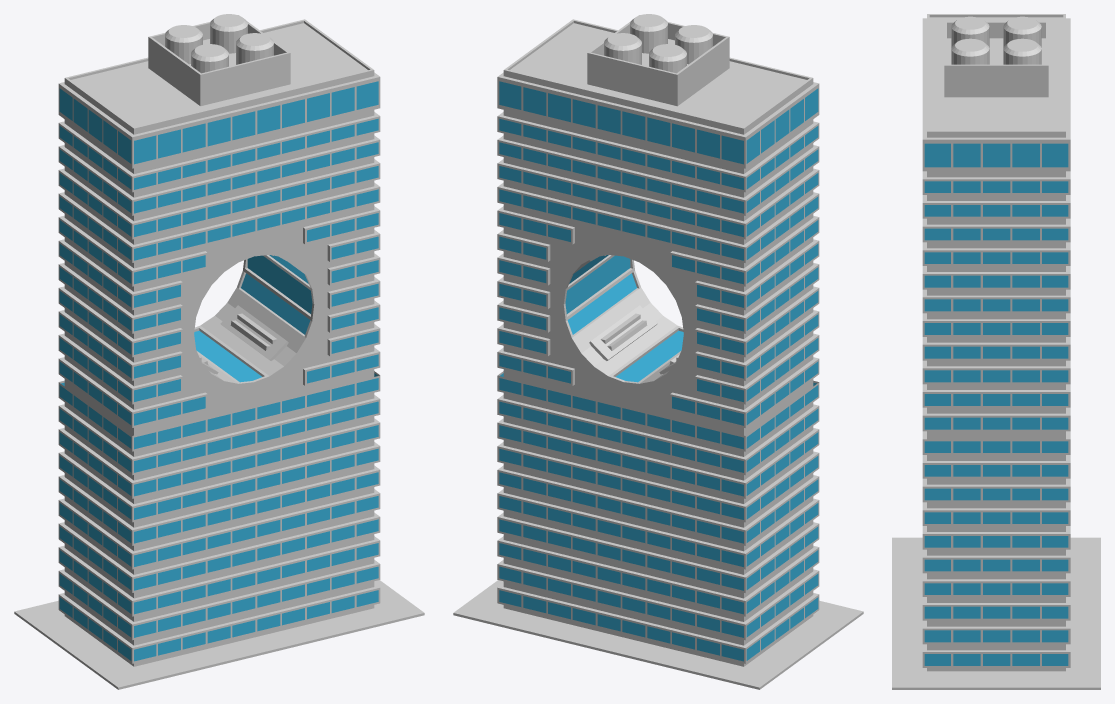
The model's file is Chroma Skyscraper K.fbx.
3 renders of one model, left to right at view 1: azimuth 30°, elevation 25°; view 2: azimuth 150°, elevation 25°; view 3: azimuth 270°, elevation 25°, orthographic.
Parts seen in each view (by area): view 1: Cube, Ground; view 2: Cube, Ground; view 3: Cube, Ground.
Boxes of the visible parts, x1,y1,x2,y2 form: Cube: [58, 14, 380, 666]; Ground: [14, 580, 424, 689]; Cube: [497, 14, 819, 666]; Ground: [453, 580, 863, 689]; Cube: [922, 14, 1070, 671]; Ground: [892, 537, 1100, 689].
Size of the model in its own units: 2040 by 3685 by 1200.
